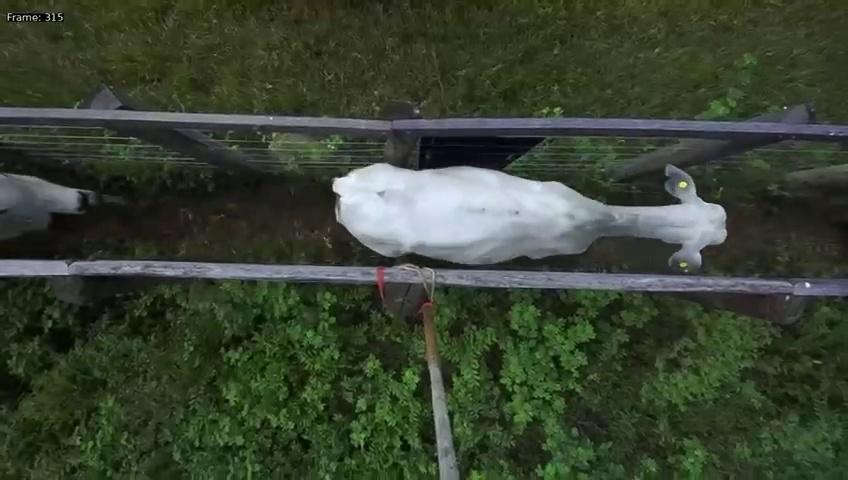cattle: (323, 144, 737, 278)
